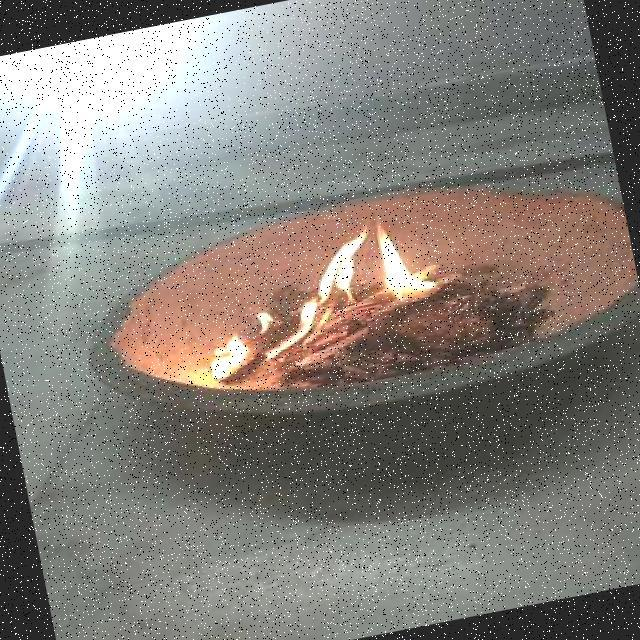Fire: (187, 199, 478, 386)
